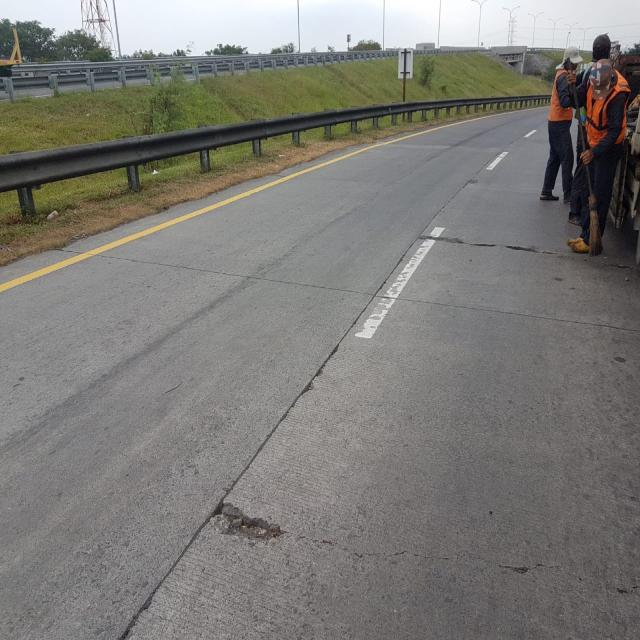Buraco: (208, 500, 286, 544), (502, 244, 558, 257), (598, 260, 634, 271), (468, 242, 499, 249)
